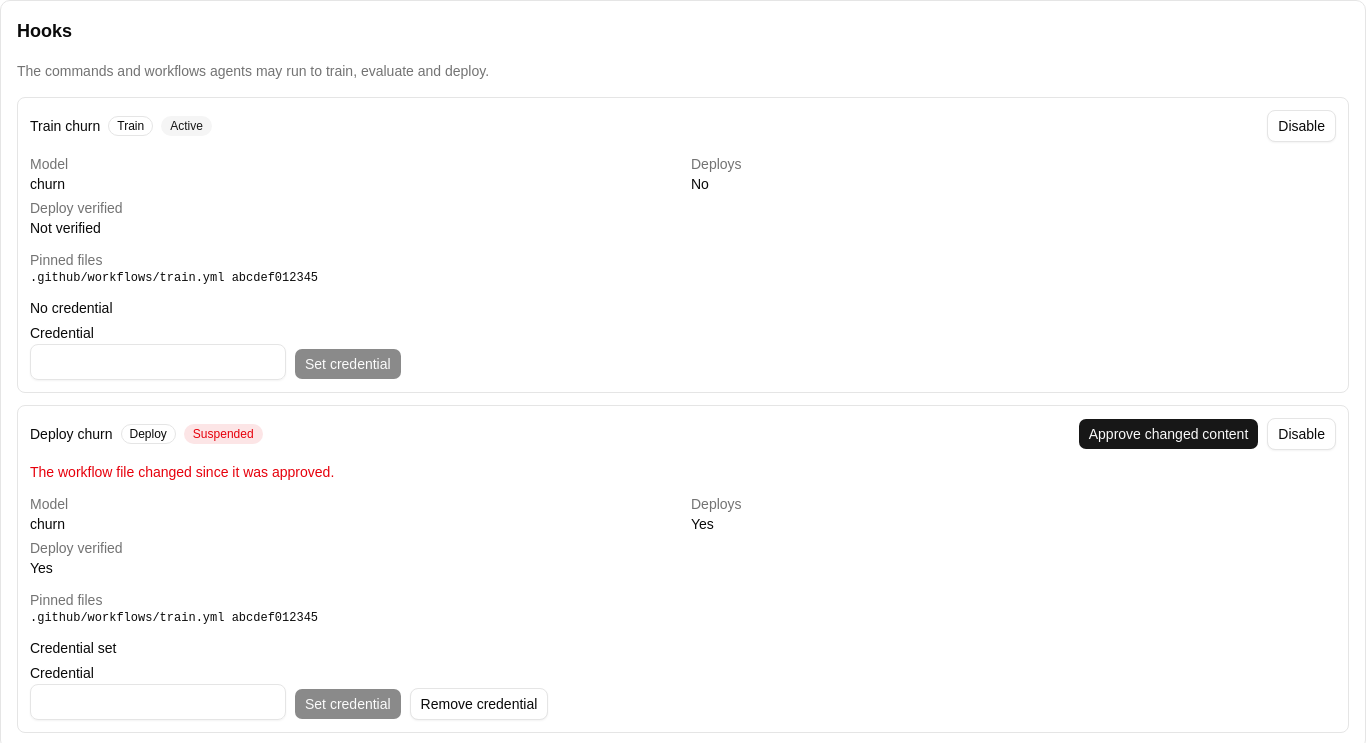
it: HooksSection › shows a refused approval as the server wrote it
Expected: the list item "Deploy churn" is shown, [17,405,1349,733]
Step 1. Click the button "Approve changed content" → (1168, 434), box [1078,418,1259,450]
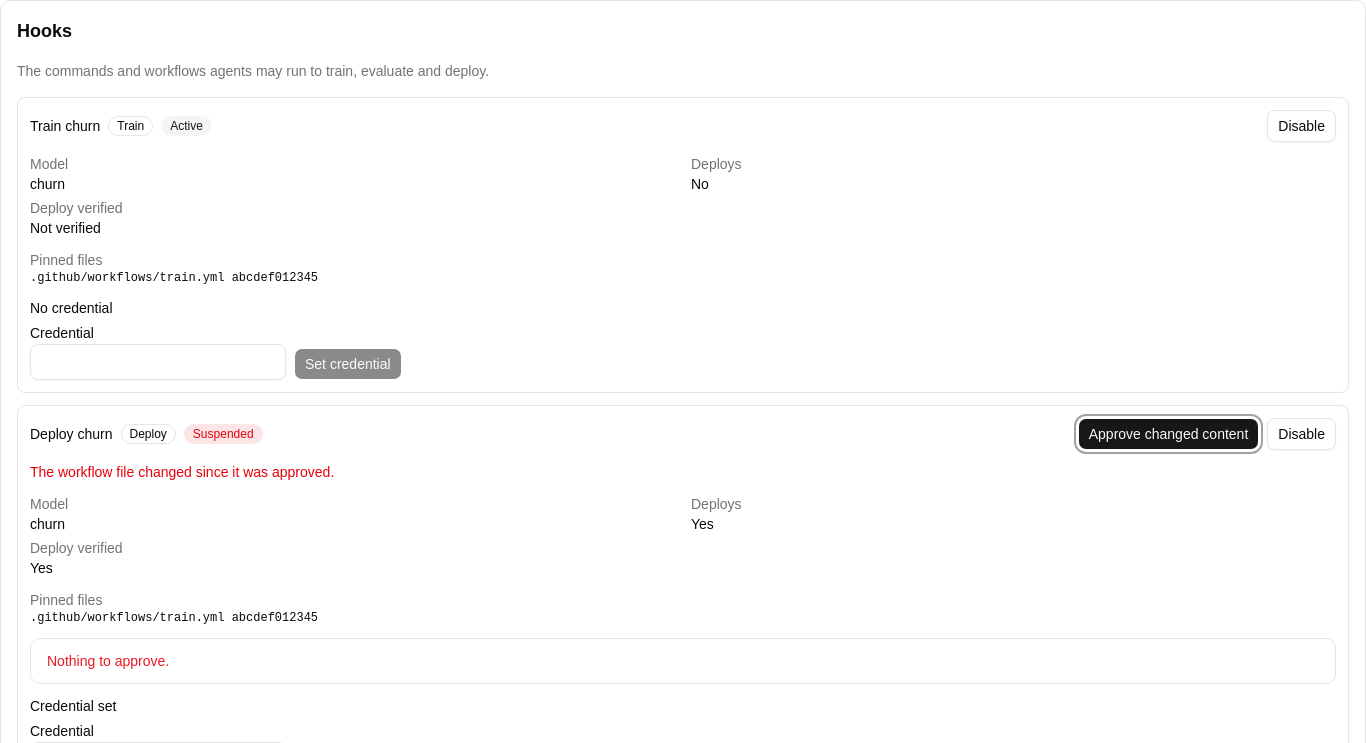
Now the text "Nothing to approve." is shown, box [47,653,169,669]
